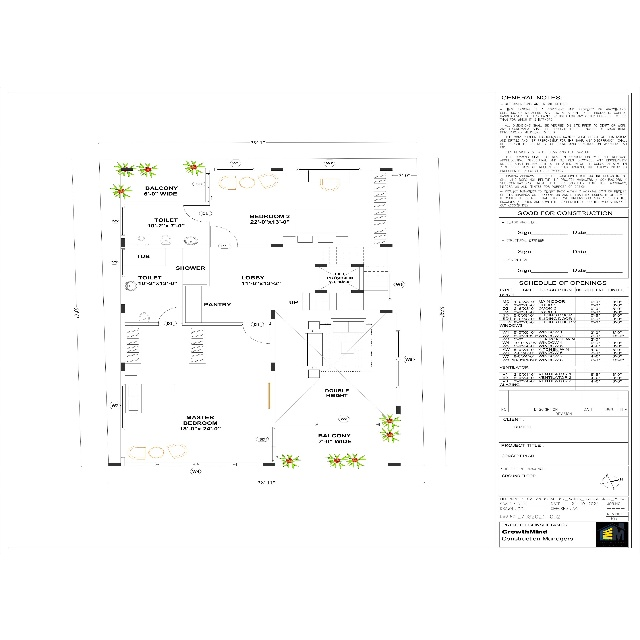door: (210, 226, 239, 247), (241, 324, 270, 345), (183, 204, 209, 224), (157, 306, 183, 325)
